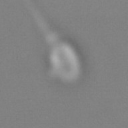normal: (21, 1, 58, 46)
